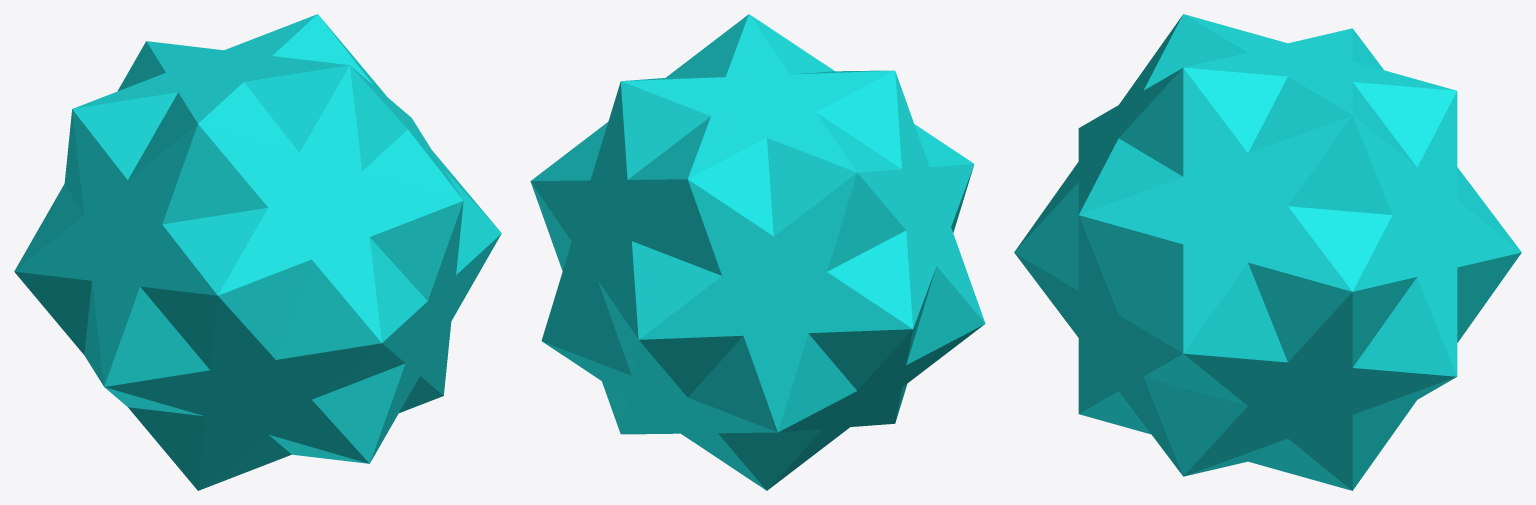
File: compound_of_icosidodecadodecahedron_and_dual.obj
The picture shows the model from 3 angles, left to right: view 1: azimuth 30°, elevation 25°; view 2: azimuth 150°, elevation 25°; view 3: azimuth 270°, elevation 25°; orthographic projection. The views are drawn at different scales.
Parts seen in each view (by area): view 1: Shape_IndexedFaceSet.001_Shape_IndexedFaceSet.012; view 2: Shape_IndexedFaceSet.001_Shape_IndexedFaceSet.012; view 3: Shape_IndexedFaceSet.001_Shape_IndexedFaceSet.012.
Boxes of the visible parts, box(x1,y1,x2,y2) form: Shape_IndexedFaceSet.001_Shape_IndexedFaceSet.012: box(14, 14, 501, 490); Shape_IndexedFaceSet.001_Shape_IndexedFaceSet.012: box(530, 14, 985, 490); Shape_IndexedFaceSet.001_Shape_IndexedFaceSet.012: box(1014, 14, 1521, 490).
Size of the model in its own units: 2.31 by 2.24 by 2.45.
